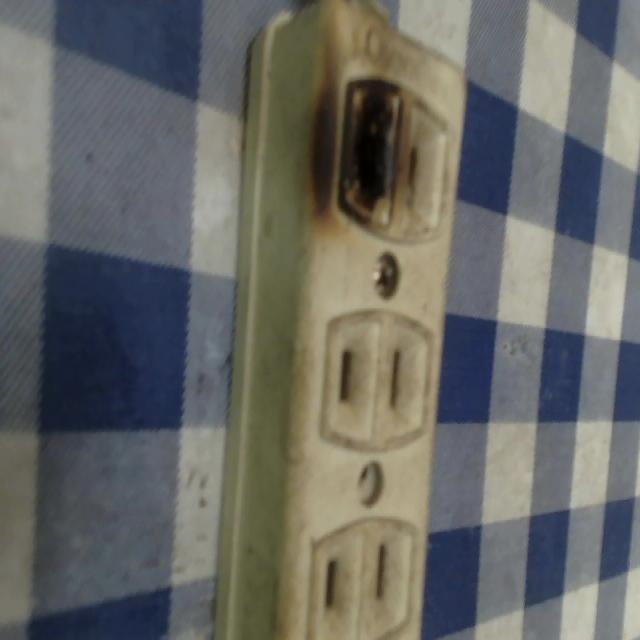-: (323, 73, 414, 243)
